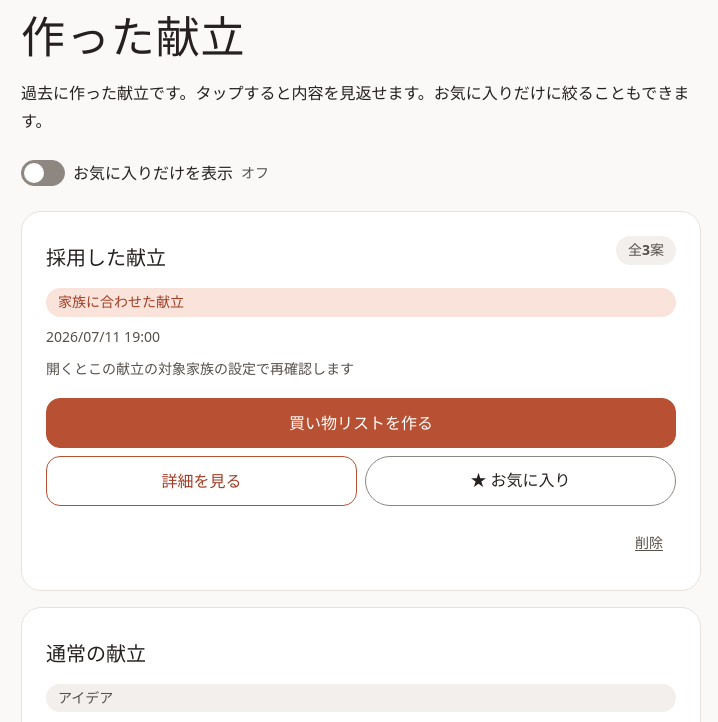
HistoryPage › filters to favorites only with a session switch
Expected: the link "採用した献立" is shown, [46,236,166,280]
Expected: the link "通常の献立" is shown, [46,632,146,676]
Click the switch labelled "お気に入りだけを表示": point(43, 173) [21,160,65,186]
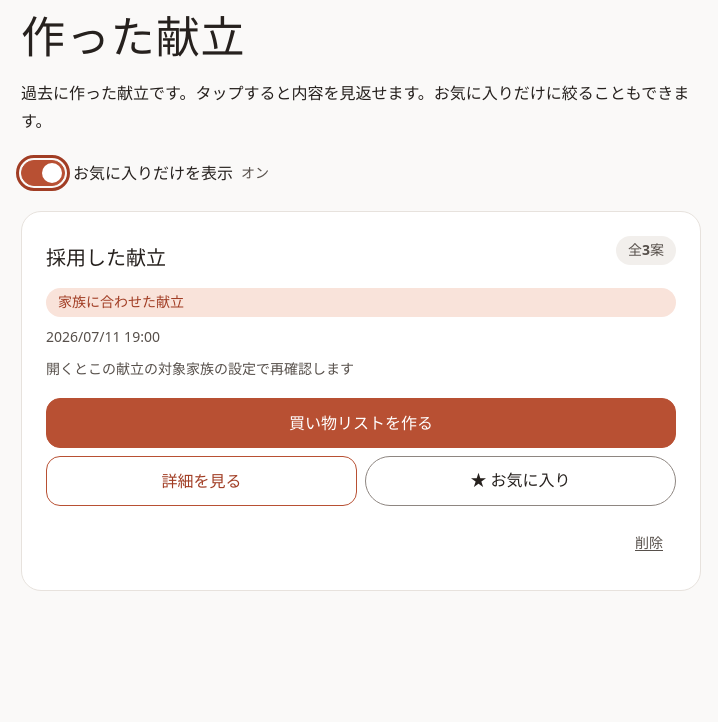
Expected: the link "採用した献立" is shown, [46,236,166,280]
Expected: the text "オン" is shown, [241,161,269,185]
Expected: the link "通常の献立" is gone
